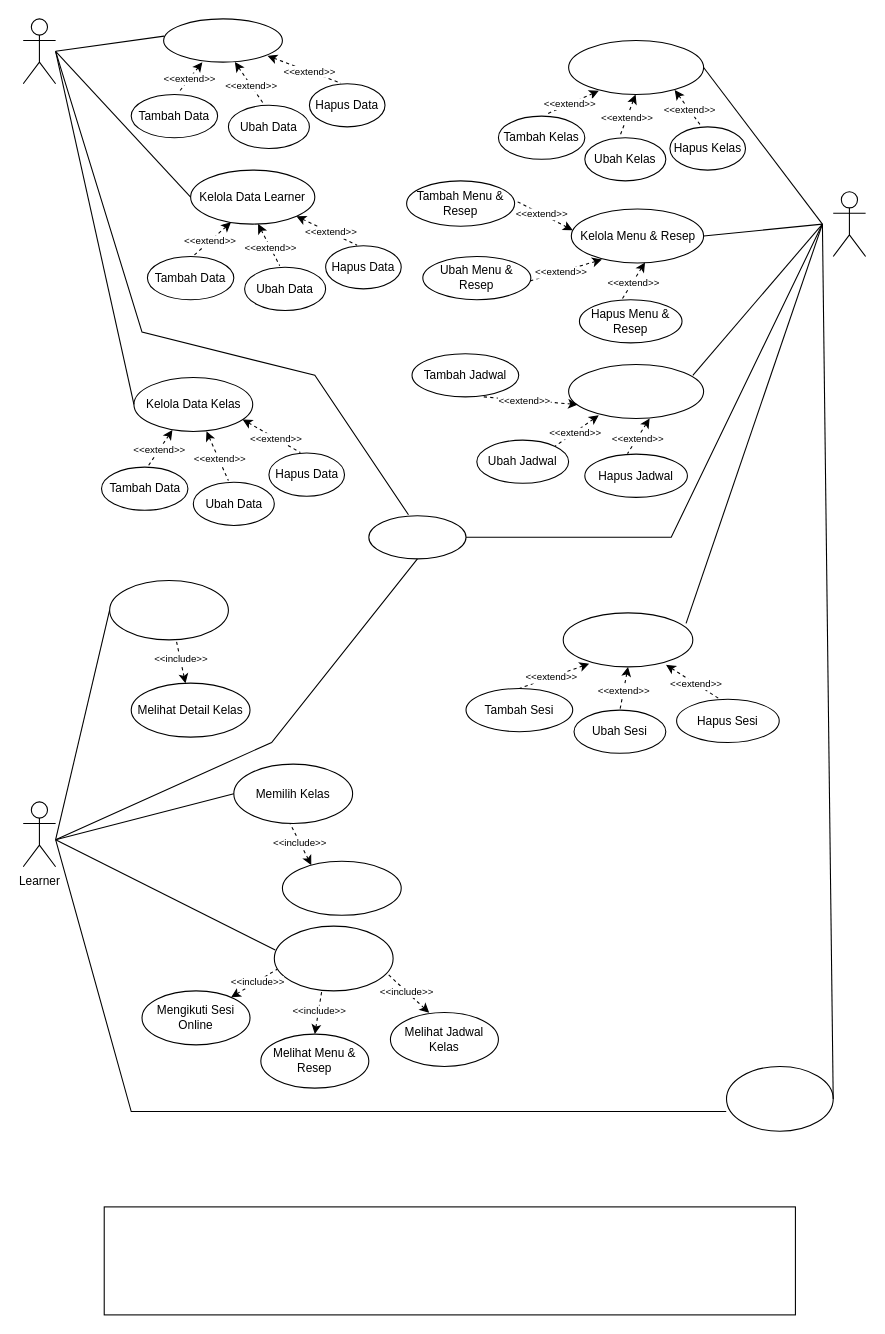
Some shapes in this 885 by 1334 pixel diagram are drawn without their labels. Each missing label, with the centre of its shape:
"Admin" goes at point 39,51.
"Chef" goes at point 849,223.
"Kelola Data Chef" goes at point 222,40.
"Kelola Jadwal Kelas" goes at point 636,390.
"Kelola Kelas" goes at point 636,66.
"Kelola Sesi Online" goes at point 627,639.
"Login" goes at point 417,537.
"Masuk Kelas" goes at point 333,958.
"Melakukan Pembayaran" goes at point 341,887.
"Melihat Kelas Tersedia" goes at point 168,609.
"Mengakses Forum Diskusi" goes at point 779,1098.
